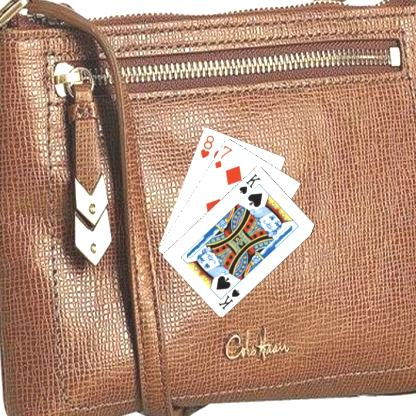7D: (212, 143, 234, 170)
8H: (198, 132, 216, 160)
KS: (216, 281, 242, 311), (236, 170, 262, 196)
